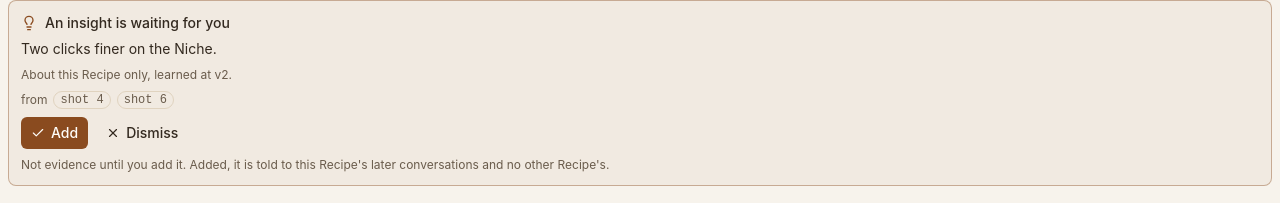
Test: ChatInsightCard › dismisses it on a press and says it is kept for the agent only
Click the button "Dismiss": (142, 133) left=96, top=117, right=188, bottom=149
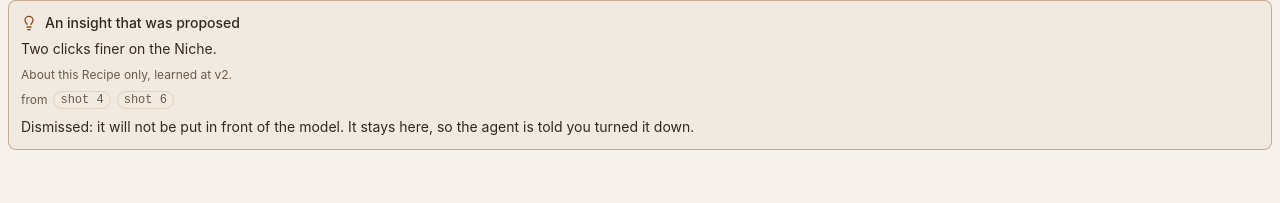
expect the text with test id "chat-insight-decided" shows "Dismissed: it will not be put in front of the model.": met, box left=21, top=118, right=694, bottom=135
expect the button "Add" is gone: met
